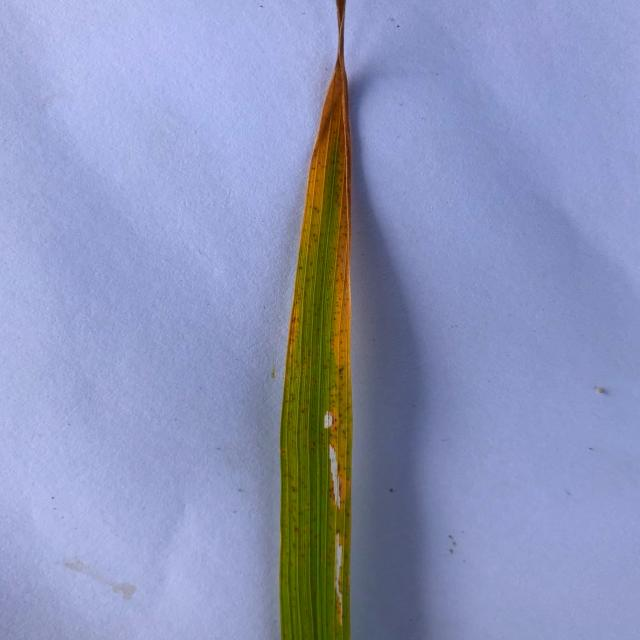tungro: (284, 59, 354, 522)
